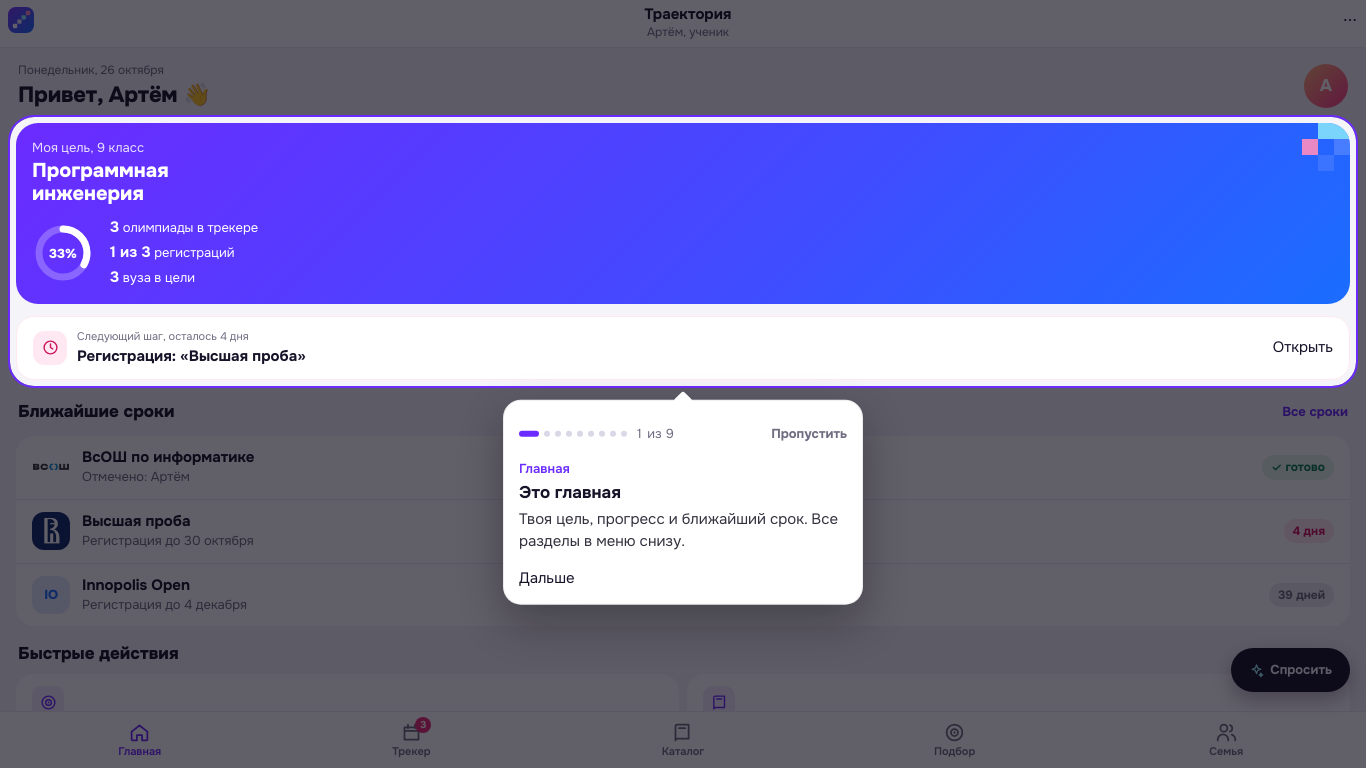
it: обзор приложения › «Пропустить» закрывает сразу и запоминает
Click the button "Пропустить". click: (809, 434)
box: [763,412,855,456]
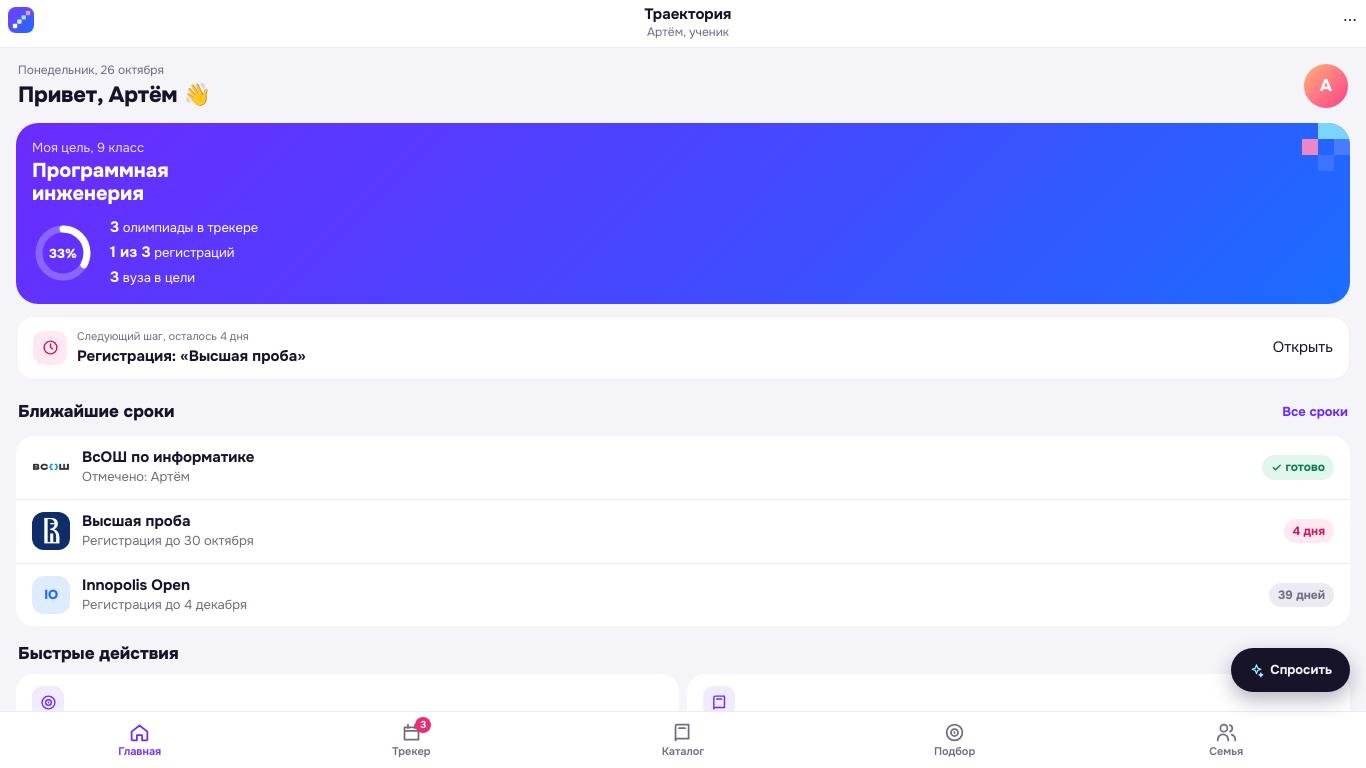
expect the heading "Это главная" is gone: met
